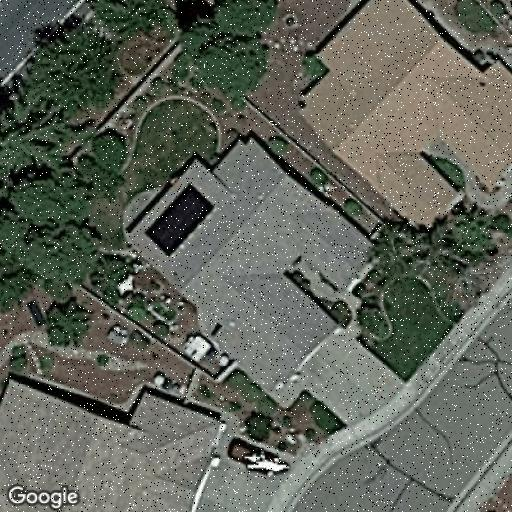solar-panel: (142, 180, 216, 258)
